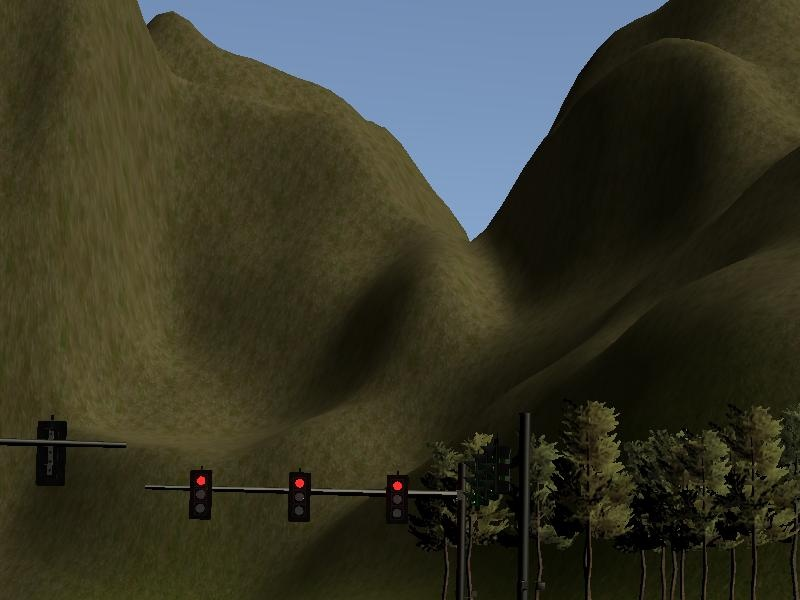red: (288, 472, 311, 524), (386, 476, 409, 526), (190, 471, 213, 521)
